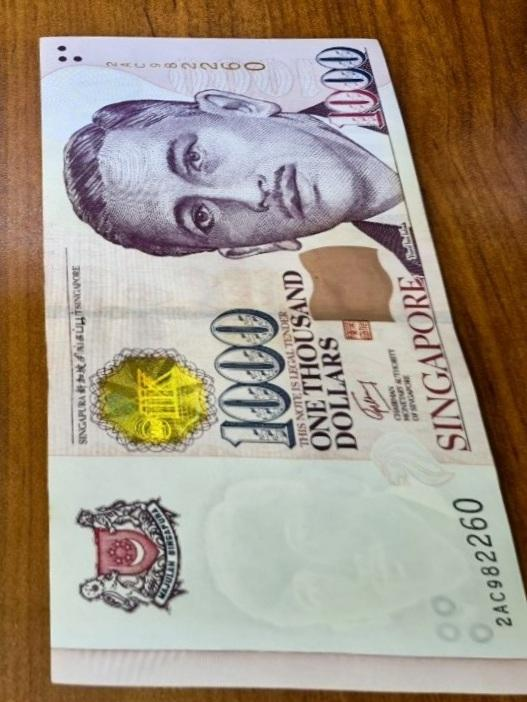1000SingaporeDollar: (56, 47, 513, 679)
